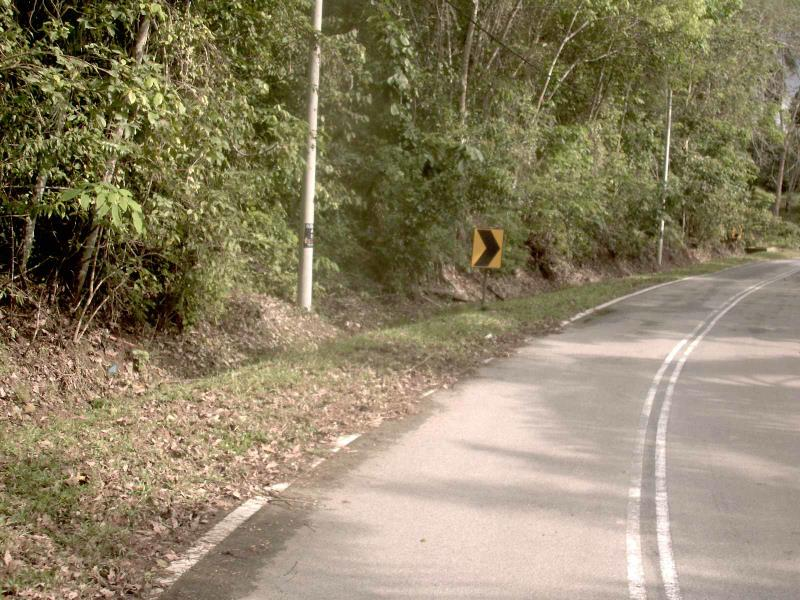traffic_sign: (463, 218, 512, 281)
